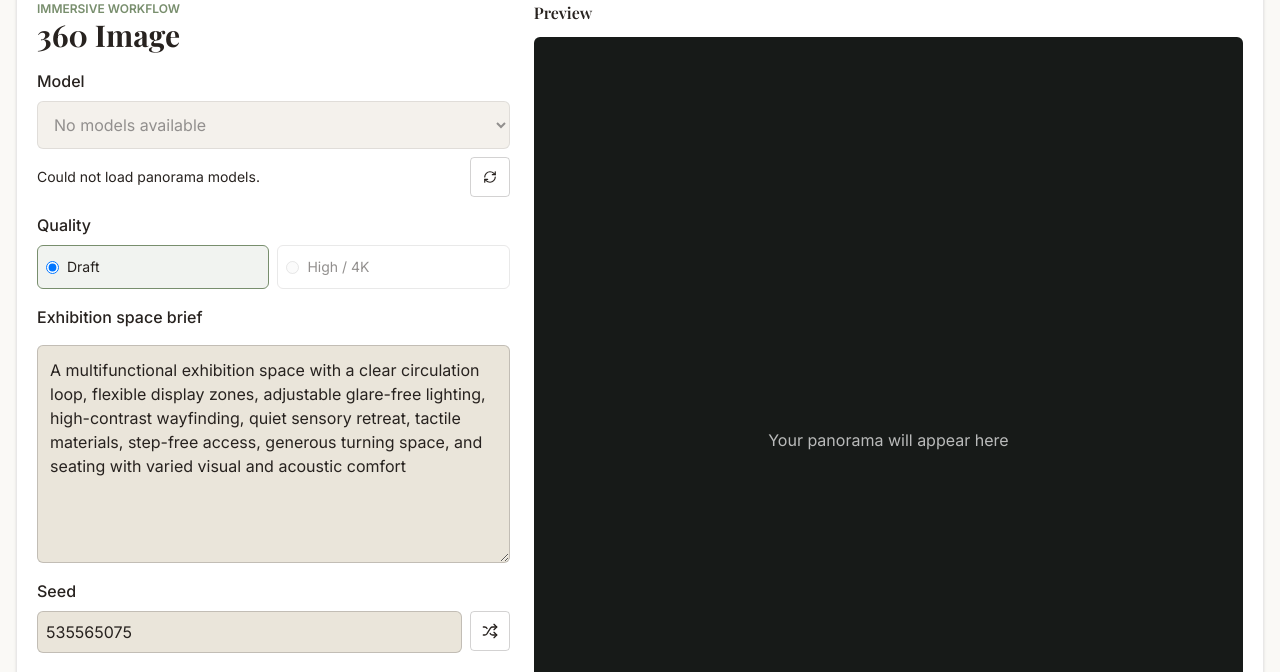
Scenario: Panorama360 › allows retrying a failed model inventory request
Expected: the message shows "Could not load panorama models", [37,168,260,185]
Click the button named "Reload models": (490, 177) [470,157,510,197]
(page scrolled)
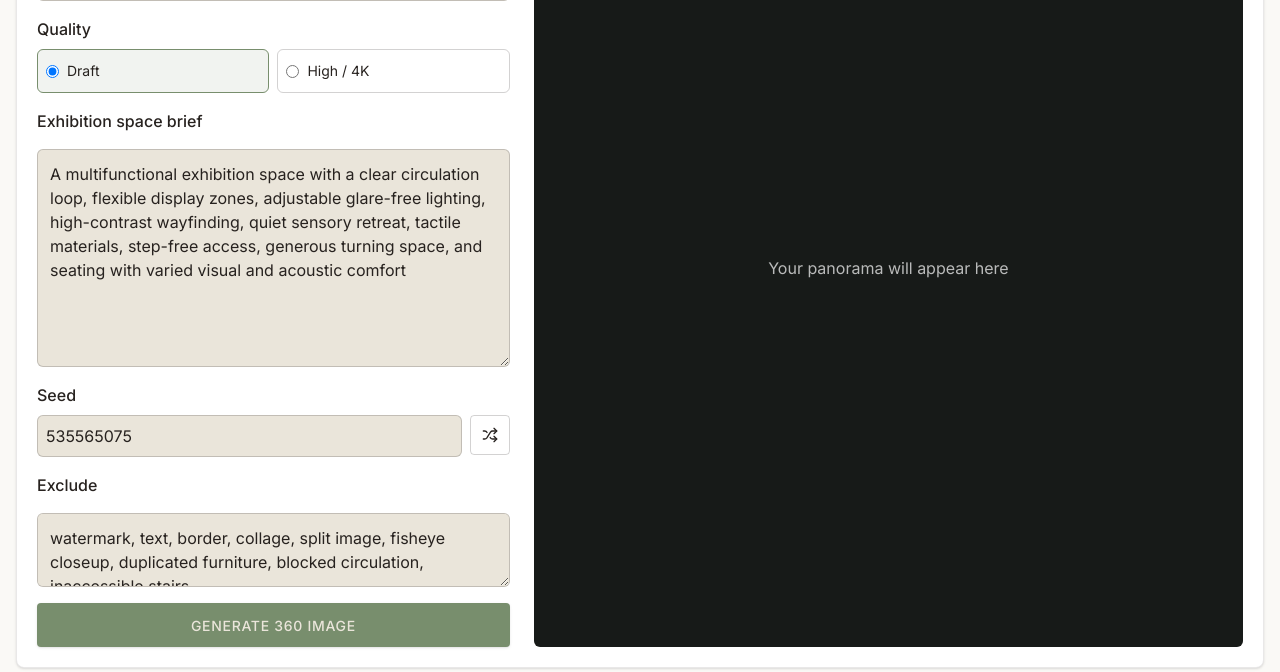
Result: the button "Generate 360 image" is enabled at [37,603,510,647]
